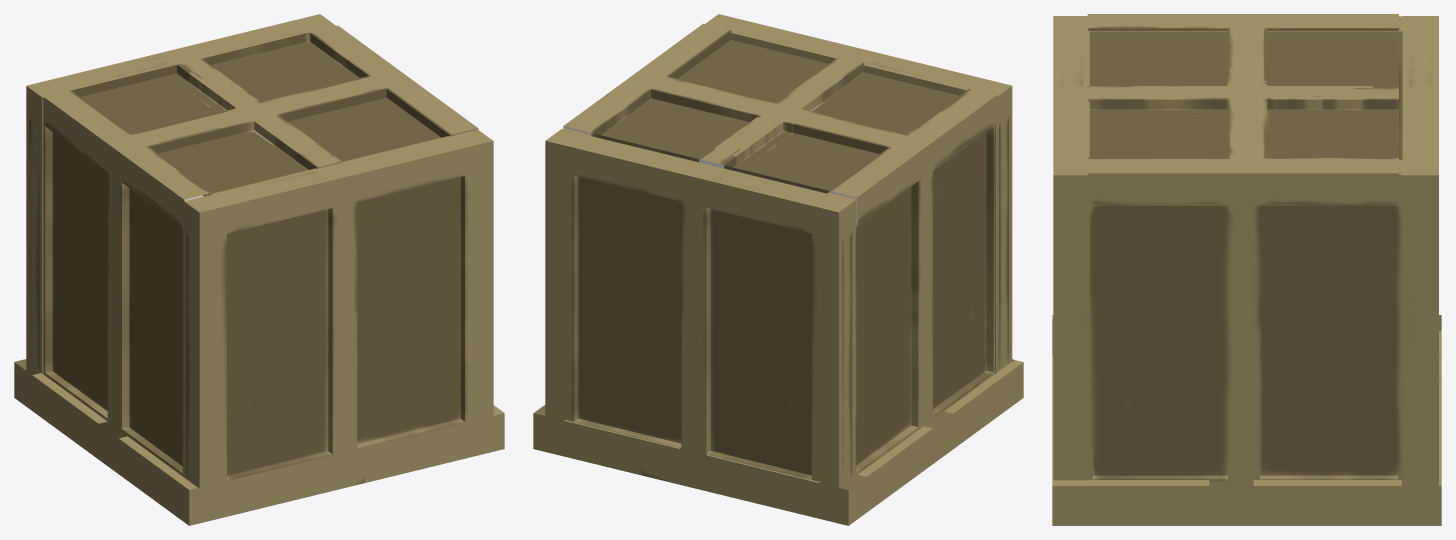
Rendered from cratebreakablefbx.fbx.
3 views of the same model, side by side, from view 1: azimuth 30°, elevation 25°; view 2: azimuth 150°, elevation 25°; view 3: azimuth 270°, elevation 25° (orthographic). The views are drawn at different scales.
Parts seen in each view (by area): view 1: cratewall, cratecover, cratewall2, cratefloor, cratewall1; view 2: cratewall1, cratecover, cratewall2, cratefloor, cratewall; view 3: cratewall3, cratecover, cratefloor, cratewall1, cratewall, cratewall2.
Part boxes in pixels (box(x1,y1,x2,y2)): cratewall: box(183, 130, 493, 487); cratecover: box(44, 25, 478, 226); cratewall2: box(40, 81, 225, 476); cratefloor: box(14, 359, 504, 525); cratewall1: box(26, 14, 335, 374); cratewall1: box(545, 129, 855, 489); cratecover: box(563, 23, 996, 225); cratewall2: box(824, 82, 1004, 484); cratefloor: box(533, 359, 1023, 525); cratewall: box(705, 14, 1012, 373); cratewall3: box(1057, 160, 1434, 485); cratecover: box(1087, 14, 1398, 204); cratefloor: box(1052, 315, 1441, 525); cratewall1: box(1402, 16, 1438, 485); cratewall: box(1053, 16, 1089, 480); cratewall2: box(1057, 16, 1434, 159).
Size of the model in its own units: 400 by 378 by 384.
